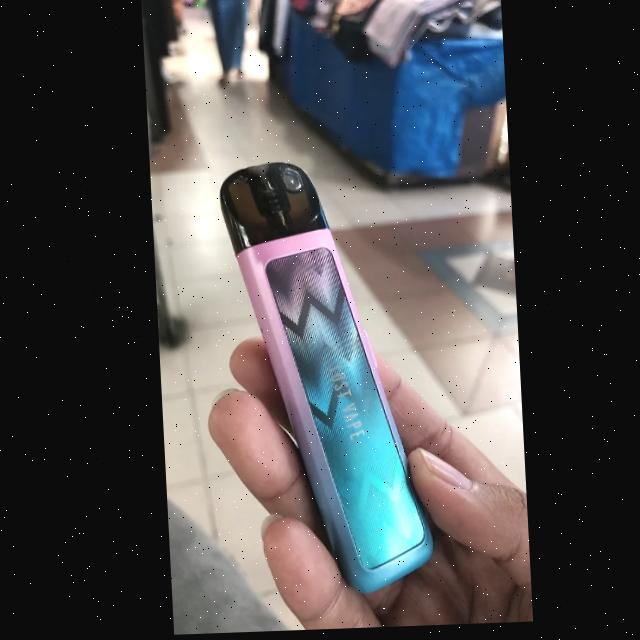vape: (215, 161, 433, 601)
